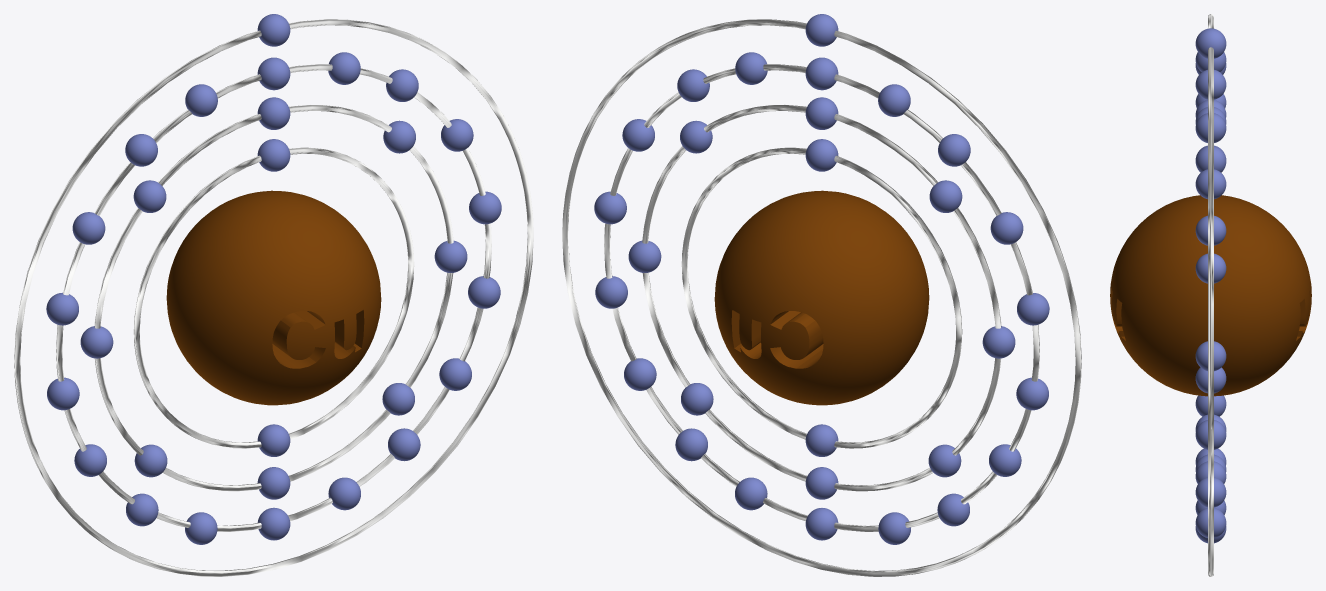
The picture shows the model from 3 angles, left to right: view 1: azimuth 30°, elevation 25°; view 2: azimuth 150°, elevation 25°; view 3: azimuth 270°, elevation 25°; orthographic projection. The views are drawn at different scales.
Parts seen in each view (by area): view 1: Body1.006, Body1.004, Body1.001, Body1.003, Body1.002, Body6.001, Body7.001, Body5.001, Body8.001, Body5, Body11, Body4.002 (+22 smaller); view 2: Body1.006, Body1.004, Body1.001, Body1.003, Body1.002, Body6.001, Body7.001, Body8.001, Body5, Body11, Body5.001, Body4.002 (+22 smaller); view 3: Body1.006, Body1.004, Body21.001, Body14.001, Body15, Body16, Body20, Body10.001, Body17, Body9.001, Body12, Body5 (+5 smaller).
Boxes of the visible parts, box(x1,y1,x2,y2) form: Body1.006: box(166, 190, 381, 405); Body1.004: box(14, 19, 533, 576); Body1.001: box(94, 105, 453, 491); Body1.003: box(56, 64, 491, 531); Body1.002: box(133, 147, 414, 448); Body6.001: box(125, 134, 157, 166); Body7.001: box(133, 180, 166, 212); Body5.001: box(72, 212, 105, 244); Body8.001: box(185, 84, 217, 116); Body5: box(388, 428, 420, 461); Body11: box(382, 383, 414, 415); Body4.002: box(80, 326, 113, 358); Body1.006: box(714, 190, 929, 405); Body1.004: box(562, 19, 1081, 576); Body1.001: box(642, 104, 1001, 491); Body1.003: box(604, 64, 1039, 531); Body1.002: box(681, 147, 962, 448); Body6.001: box(938, 134, 970, 166); Body7.001: box(929, 180, 962, 212); Body8.001: box(878, 84, 910, 116); Body5: box(675, 428, 707, 461); Body11: box(681, 383, 713, 415); Body5.001: box(990, 212, 1023, 244); Body4.002: box(982, 326, 1015, 358); Body1.006: box(1110, 195, 1311, 396); Body1.004: box(1208, 14, 1213, 576); Body21.001: box(1195, 28, 1226, 58); Body14.001: box(1195, 253, 1226, 283); Body15: box(1195, 169, 1226, 199); Body16: box(1195, 215, 1226, 245); Body20: box(1195, 69, 1226, 99); Body10.001: box(1195, 341, 1226, 371); Body17: box(1195, 113, 1226, 142); Body9.001: box(1195, 477, 1226, 507); Body12: box(1195, 420, 1226, 449); Body5: box(1195, 508, 1226, 537).
Bounding box in the file's own units: 0.293 × 0.299 × 0.105.
